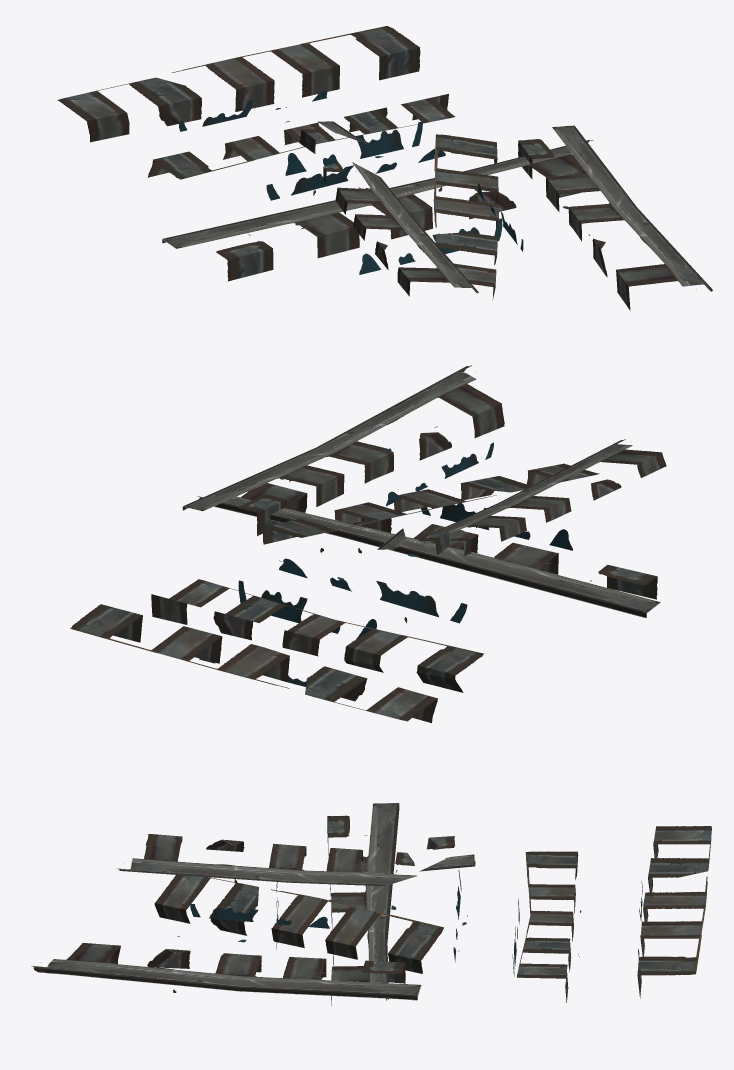
File: WuJian01.FBX
The picture shows the model from 3 angles, top to bottom: view 1: azimuth 30°, elevation 25°; view 2: azimuth 150°, elevation 25°; view 3: azimuth 270°, elevation 25°; orthographic projection. The views are drawn at different scales.
Visible parts, largest first — view 1: WuJian01; view 2: WuJian01; view 3: WuJian01.
Part boxes in pixels (x1,y1,x2,y2): WuJian01: [57, 26, 712, 310]; WuJian01: [70, 365, 666, 723]; WuJian01: [31, 803, 711, 1005].
Size of the model in its own units: 214 by 31.25 by 262.
